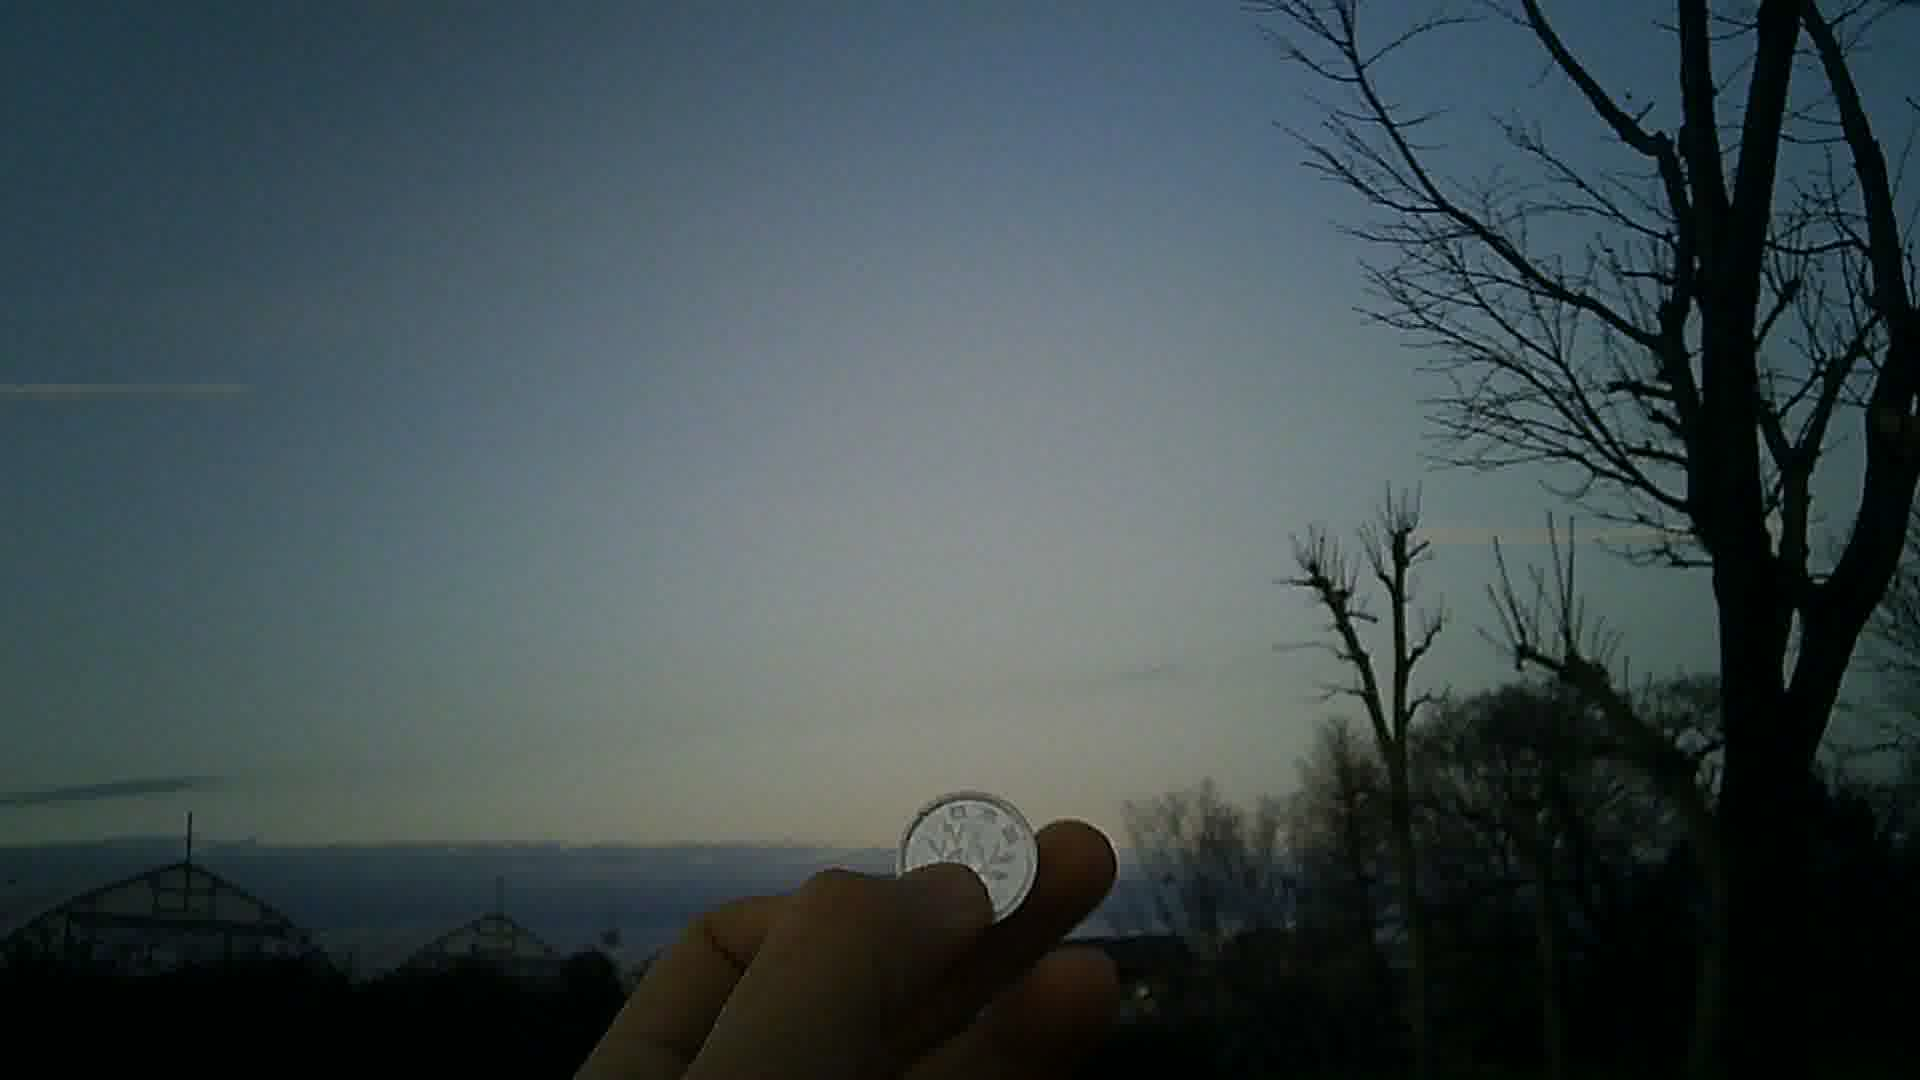1 Yen: (891, 787, 1047, 922)
